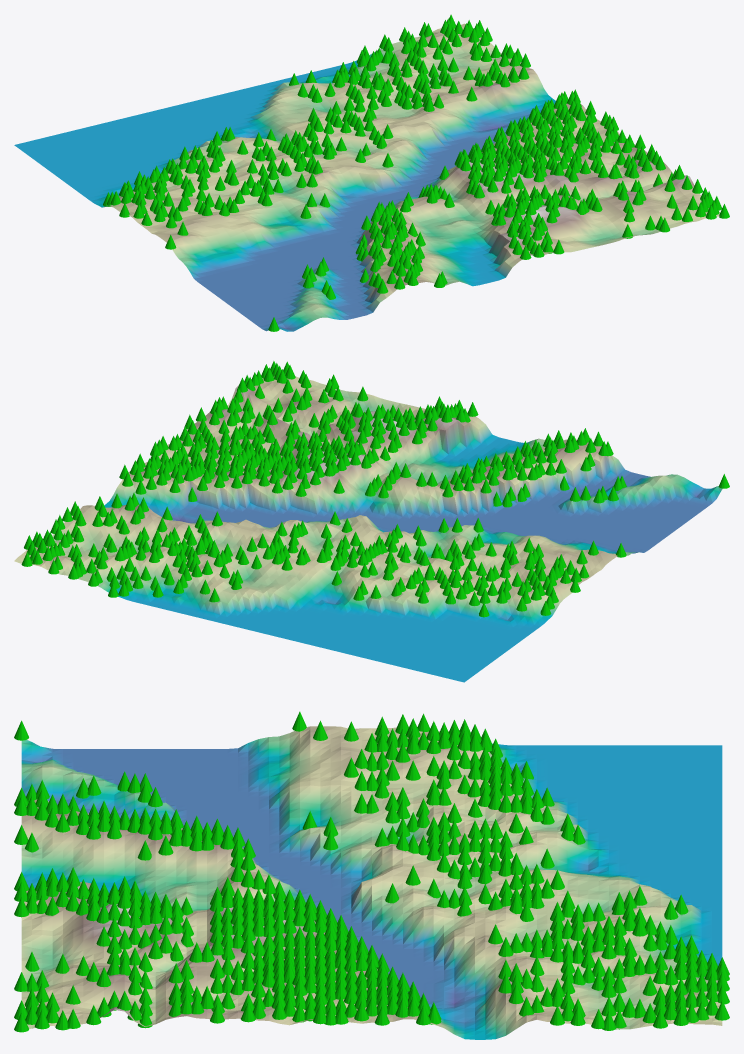
Rendered from 002301_with_tree.glb.
The picture shows the model from 3 angles, top to bottom: view 1: azimuth 30°, elevation 25°; view 2: azimuth 150°, elevation 25°; view 3: azimuth 270°, elevation 25°; orthographic projection. The views are drawn at different scales.
Parts seen in each view (by area): view 1: terrain, trees; view 2: terrain, trees; view 3: terrain, trees.
Part boxes in pixels (x1,y1,x2,y2): terrain: (14,23,719,331); trees: (103,14,729,331); terrain: (14,376,722,682); trees: (21,361,729,617); terrain: (21,726,722,1039); trees: (14,711,729,1032).
Size of the model in its own units: 0.0187 by 0.0017 by 0.0187.
